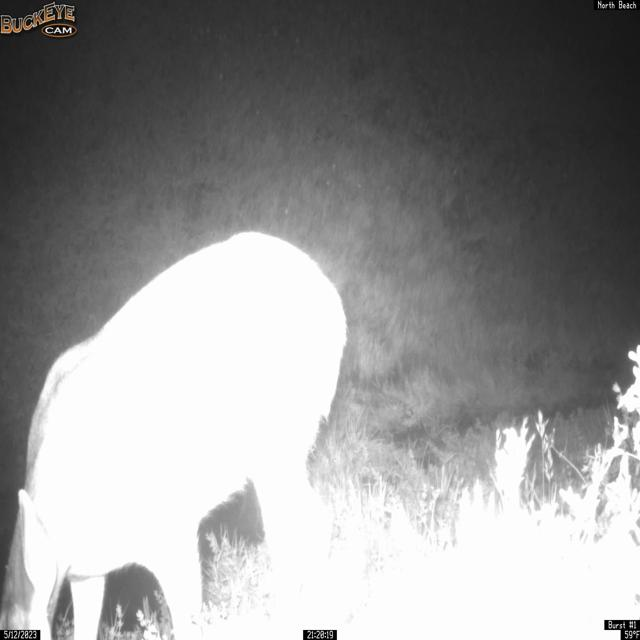deer: (0, 230, 349, 640)
